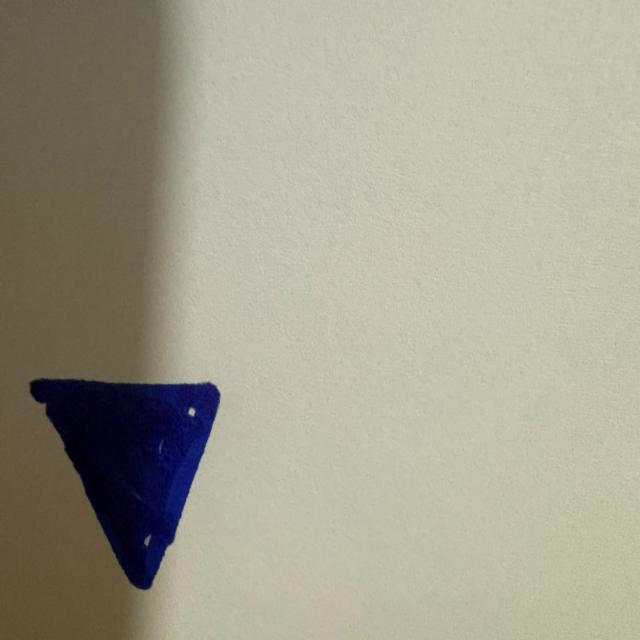Triangle: (30, 379, 220, 589)
